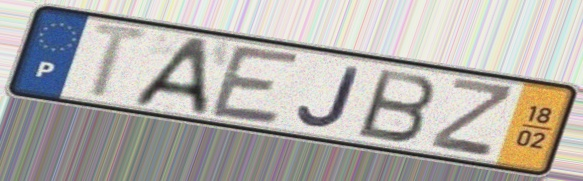A: (127, 36, 214, 117)
B: (354, 66, 440, 146)
E: (205, 42, 306, 129)
J: (294, 63, 365, 130)
T: (86, 19, 158, 102)
Z: (425, 75, 519, 161)
